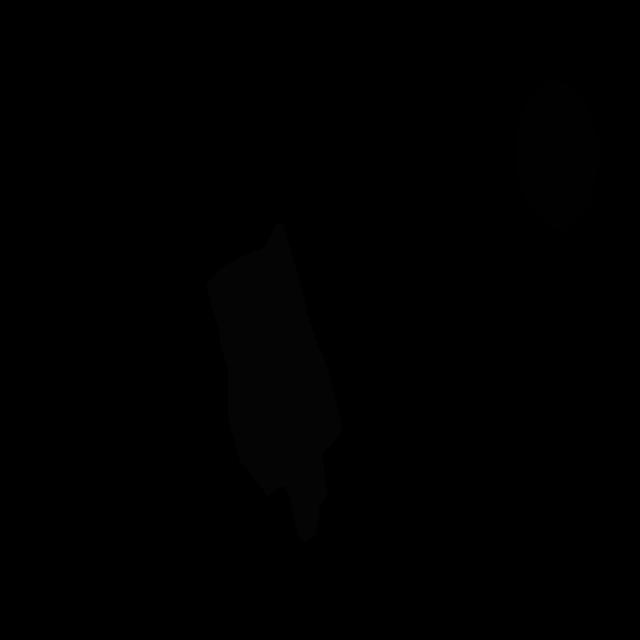rigid_plastic: (516, 81, 598, 231)
soft_plastic: (206, 223, 342, 541)
